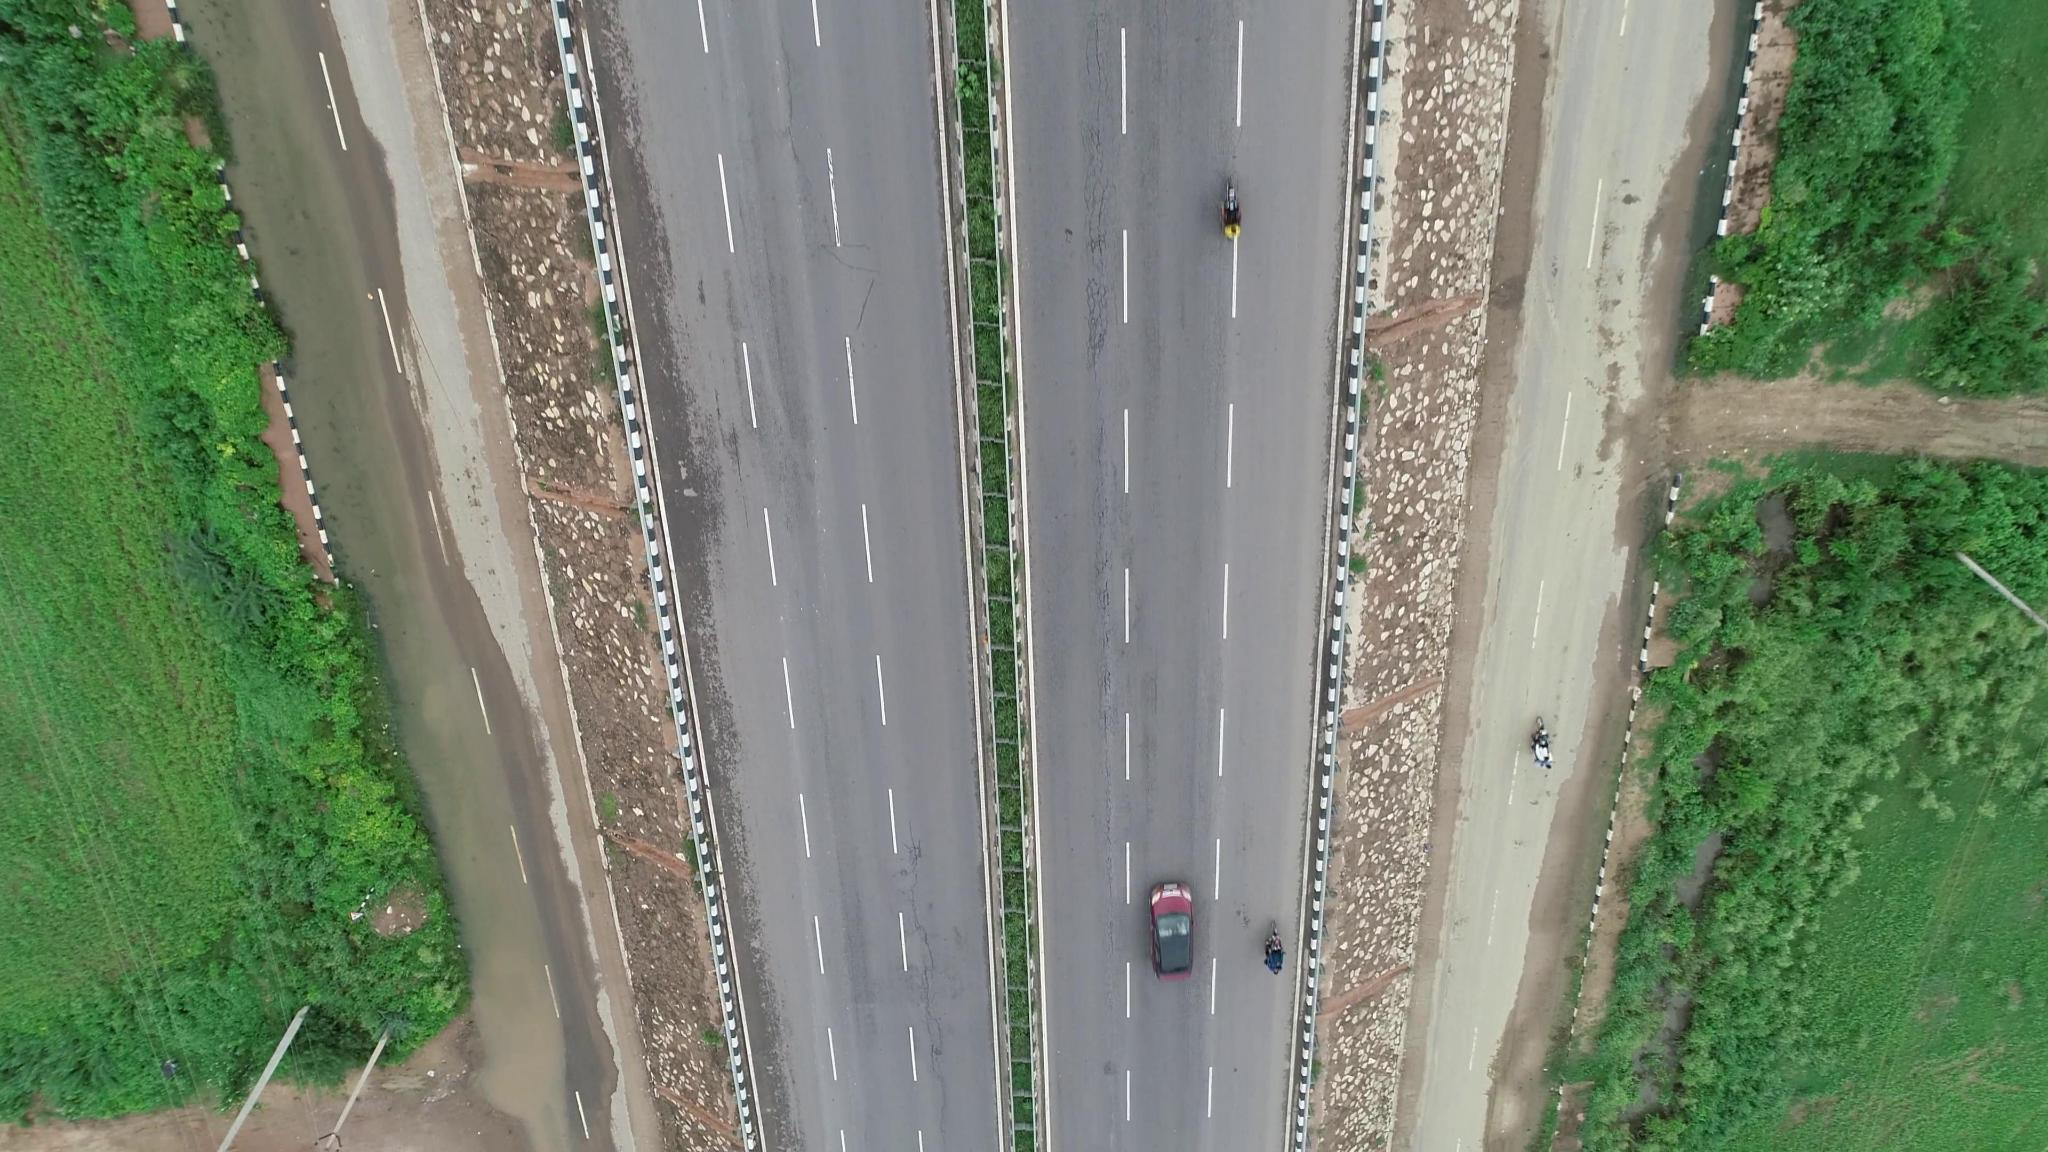Cracks: (1079, 435, 1125, 889), (892, 833, 956, 1144), (1069, 24, 1120, 369)
